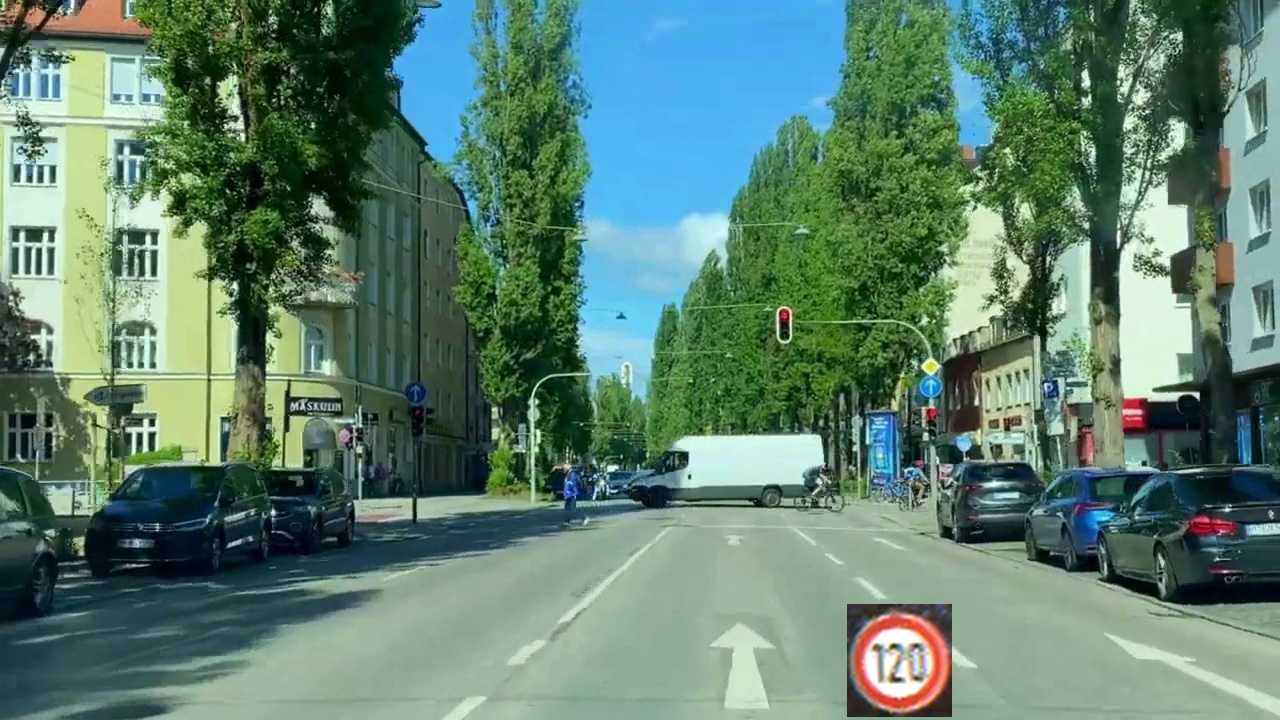Speed 120: (847, 604, 952, 717)
